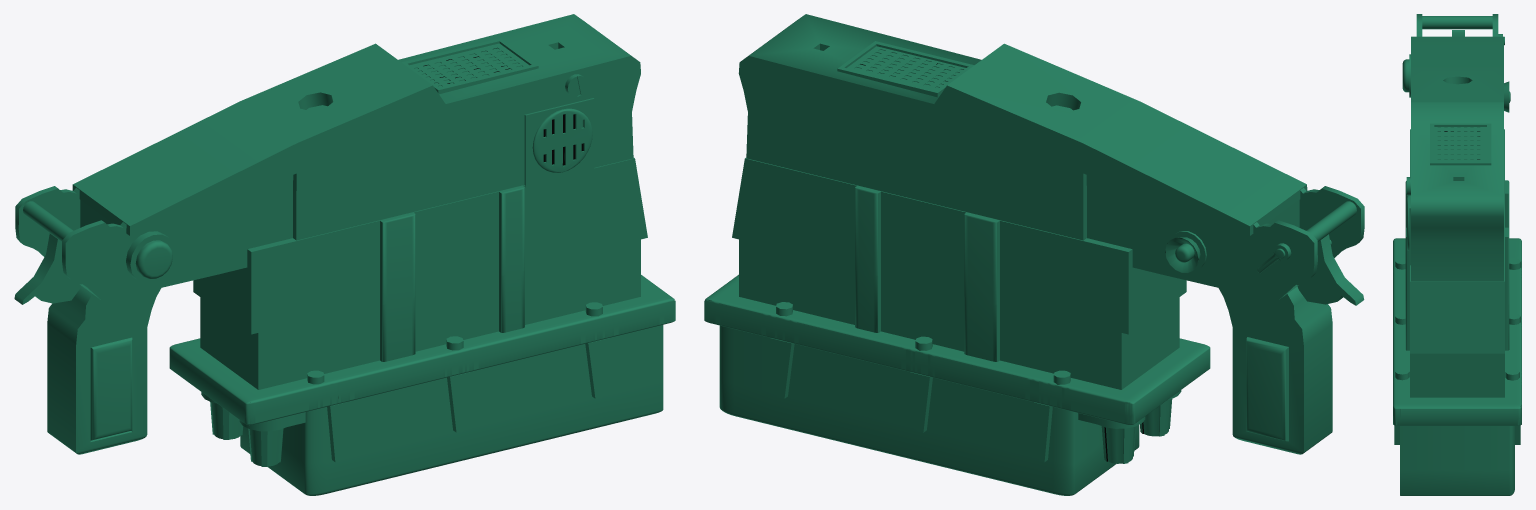
3 views of the same model, side by side, from view 1: azimuth 30°, elevation 25°; view 2: azimuth 150°, elevation 25°; view 3: azimuth 270°, elevation 25° (orthographic). The views are drawn at different scales.
Visible parts, largest first — view 1: ПТ-ПМ_П.001; view 2: ПТ-ПМ_П.001; view 3: ПТ-ПМ_П.001.
Part boxes in pixels (x1,y1,x2,y2): ПТ-ПМ_П.001: (14,14,675,495); ПТ-ПМ_П.001: (704,14,1364,495); ПТ-ПМ_П.001: (1393,14,1521,495).
Size of the model in its own units: 401 by 235 by 89.11.
1 material, 1 textured.
